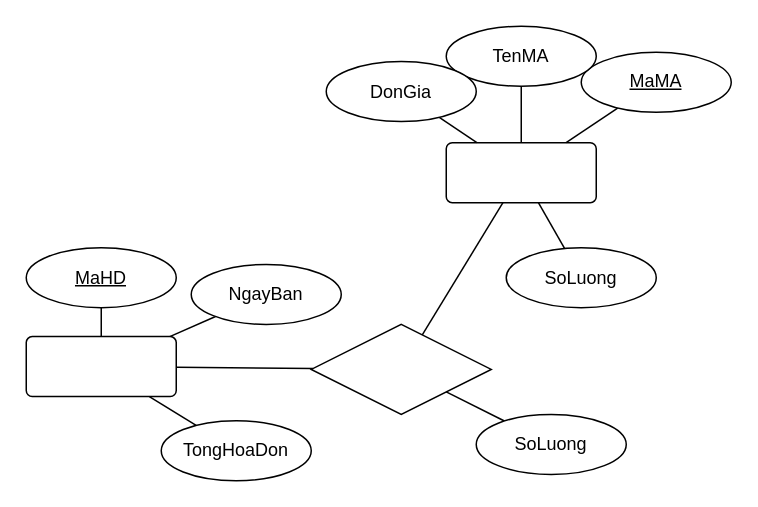
The diagram is 758 pixels wide and 507 high, and some of its shapes have lost their labels. The shapes that lost their labels are listed below. From the top down, each one's box as (x1, y1, x2, y2) in pixels, then its label:
(445, 141, 596, 203): MonAn
(25, 335, 176, 397): HoaDon
(310, 323, 491, 414): CTHD
